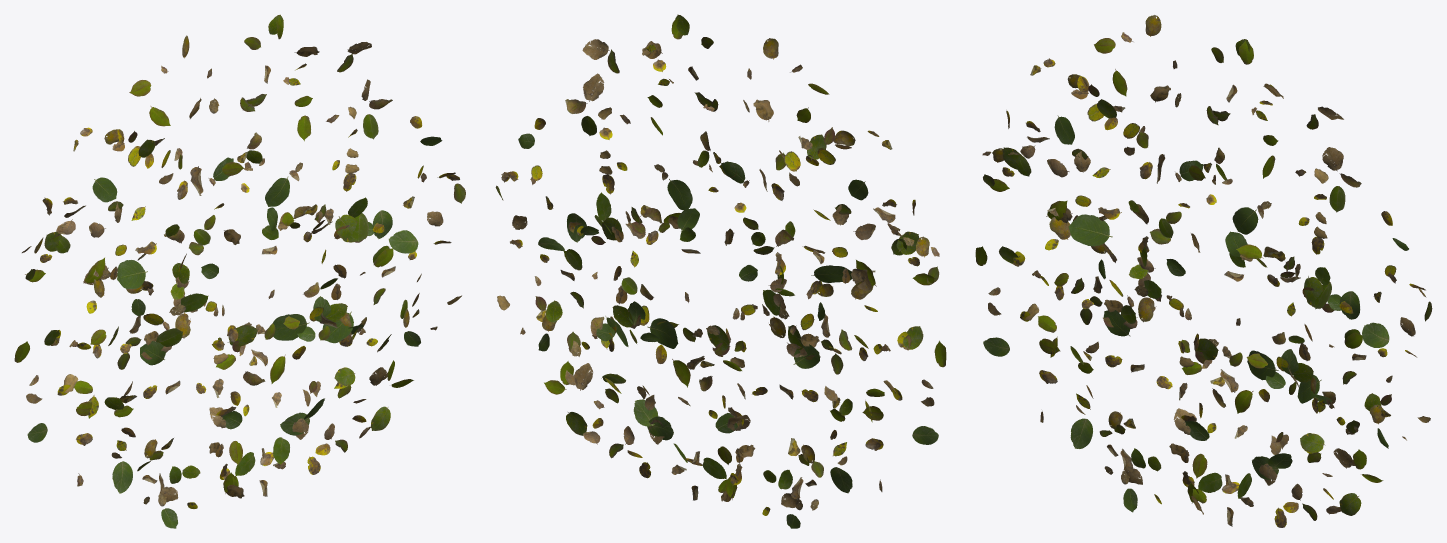
File: Leaf_Pile_02_Var1_LOD0.fbx
3 views of the same model, side by side, from view 1: azimuth 30°, elevation 25°; view 2: azimuth 150°, elevation 25°; view 3: azimuth 330°, elevation 25° (orthographic). The views are drawn at different scales.
Visible parts, largest first — view 1: Var1_LOD0; view 2: Var1_LOD0; view 3: Var1_LOD0.
Boxes of the visible parts, x1,y1,x2,y2 form: Var1_LOD0: [14, 14, 465, 528]; Var1_LOD0: [495, 14, 946, 528]; Var1_LOD0: [975, 15, 1432, 527].
Bounding box in the file's own units: 165 × 171 × 8.41.
